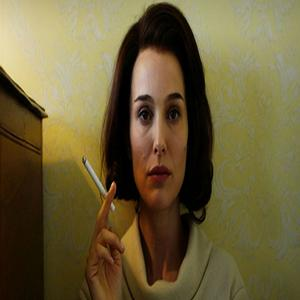cigarette: (77, 152, 116, 210)
